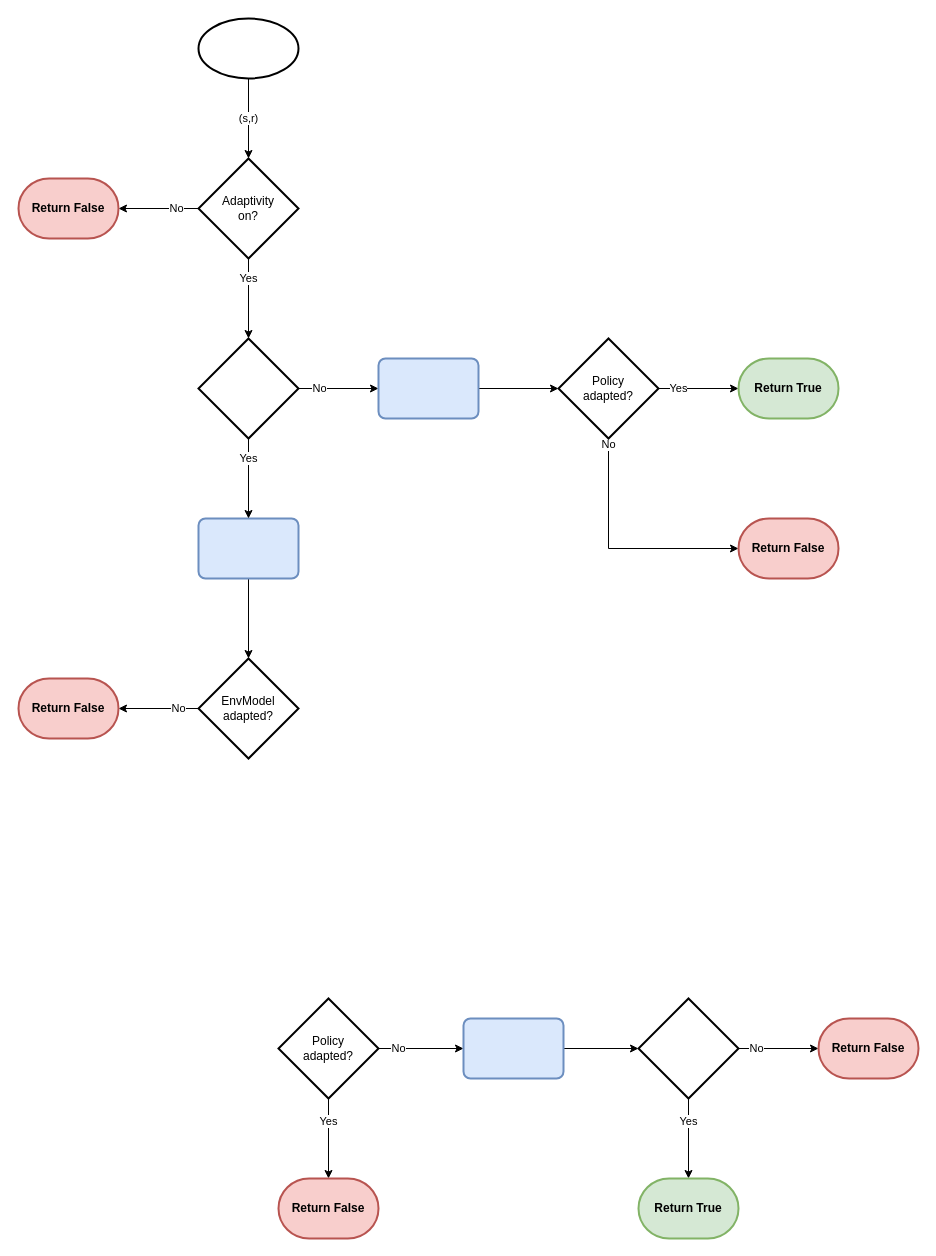
The diagram is 936 pixels wide and 1256 high, and some of its shapes have lost their labels. Here are the shapes that lost their labels. From the top down, the box of each, then its label:
(197, 17, 299, 79): Start
(197, 337, 299, 439): Model-based Adaptation?
(377, 357, 479, 419): P1: Direct Policy Adaptation
(197, 517, 299, 579): P2: EnvModel Adaptation
(462, 1017, 564, 1079): P3: Policy Adaptation with EnvModel
(637, 997, 739, 1099): Policy or EnvModel adapted?
